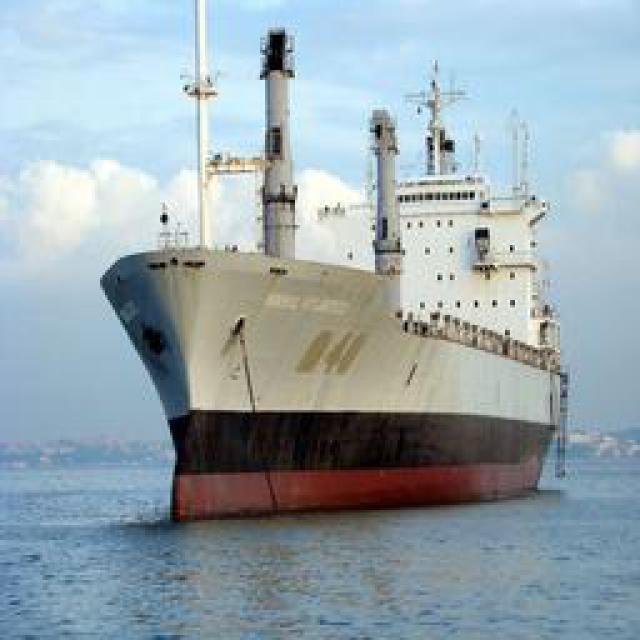Ship: (102, 159, 562, 524)
